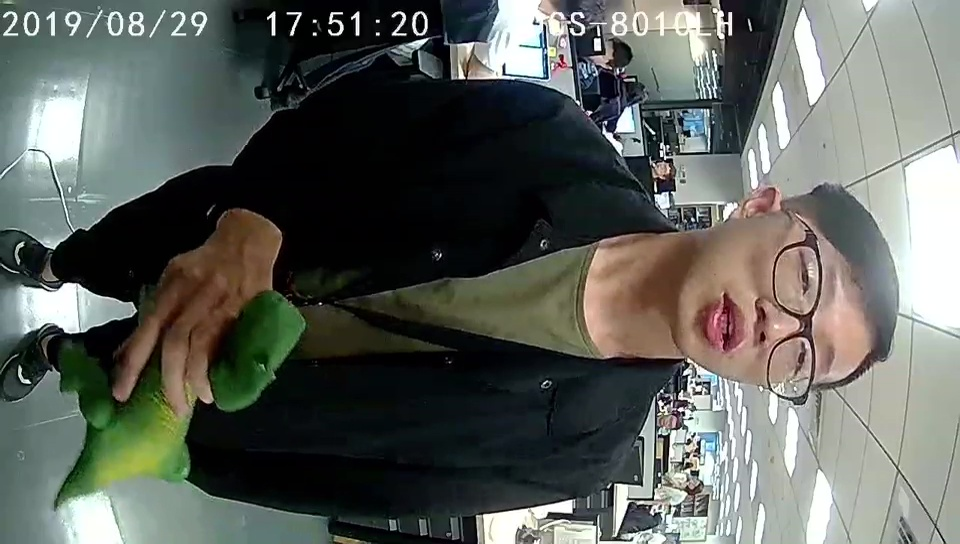rex: (62, 288, 312, 488)
